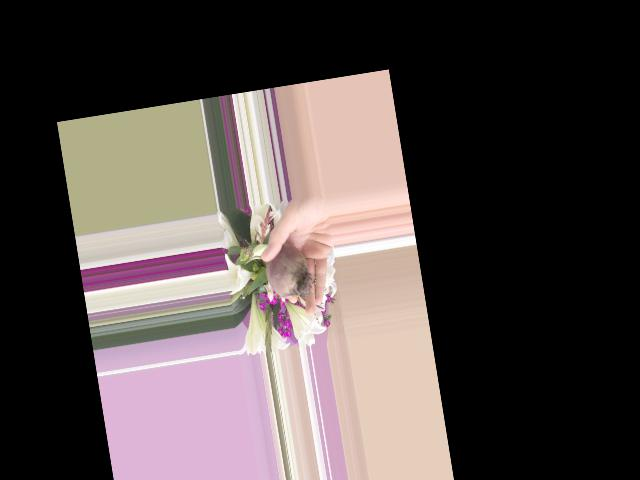beet: (242, 241, 313, 305)
